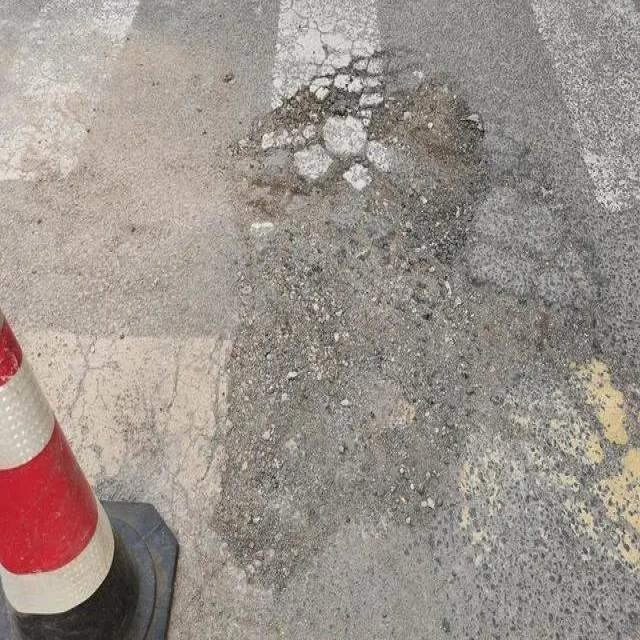Pothole: (190, 47, 595, 564)
